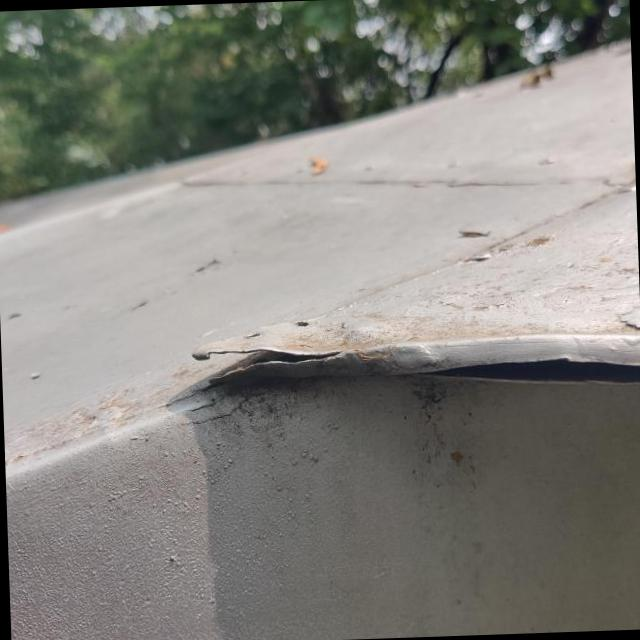Crack: (191, 338, 339, 385)
